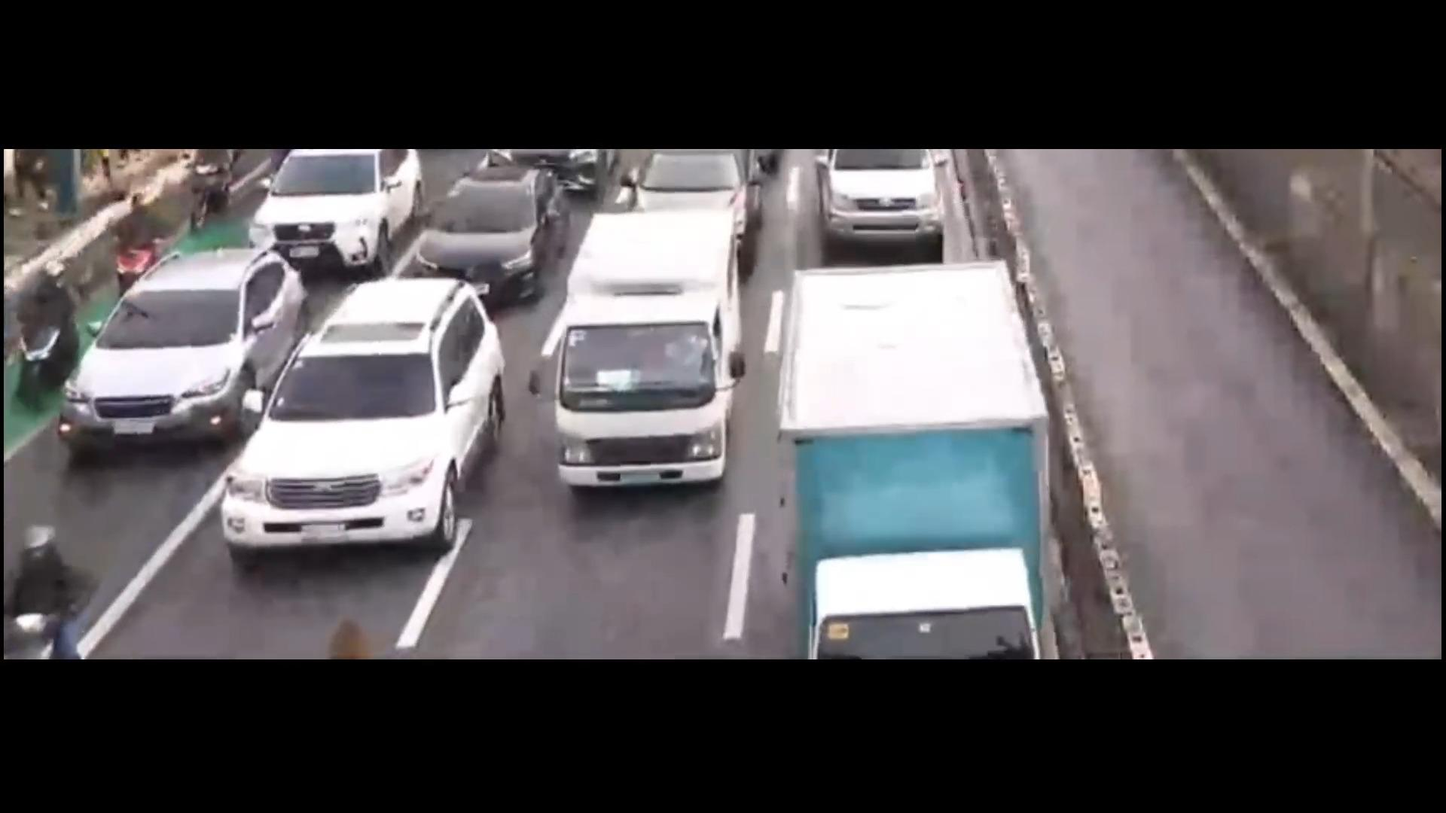Motorcycle: (0, 243, 91, 417), (106, 179, 175, 306), (185, 145, 249, 223)
SUV: (161, 277, 539, 593), (236, 151, 418, 280)
Sedan: (43, 239, 328, 482), (402, 160, 578, 300)
Truck: (766, 241, 1066, 658), (522, 194, 767, 526)
